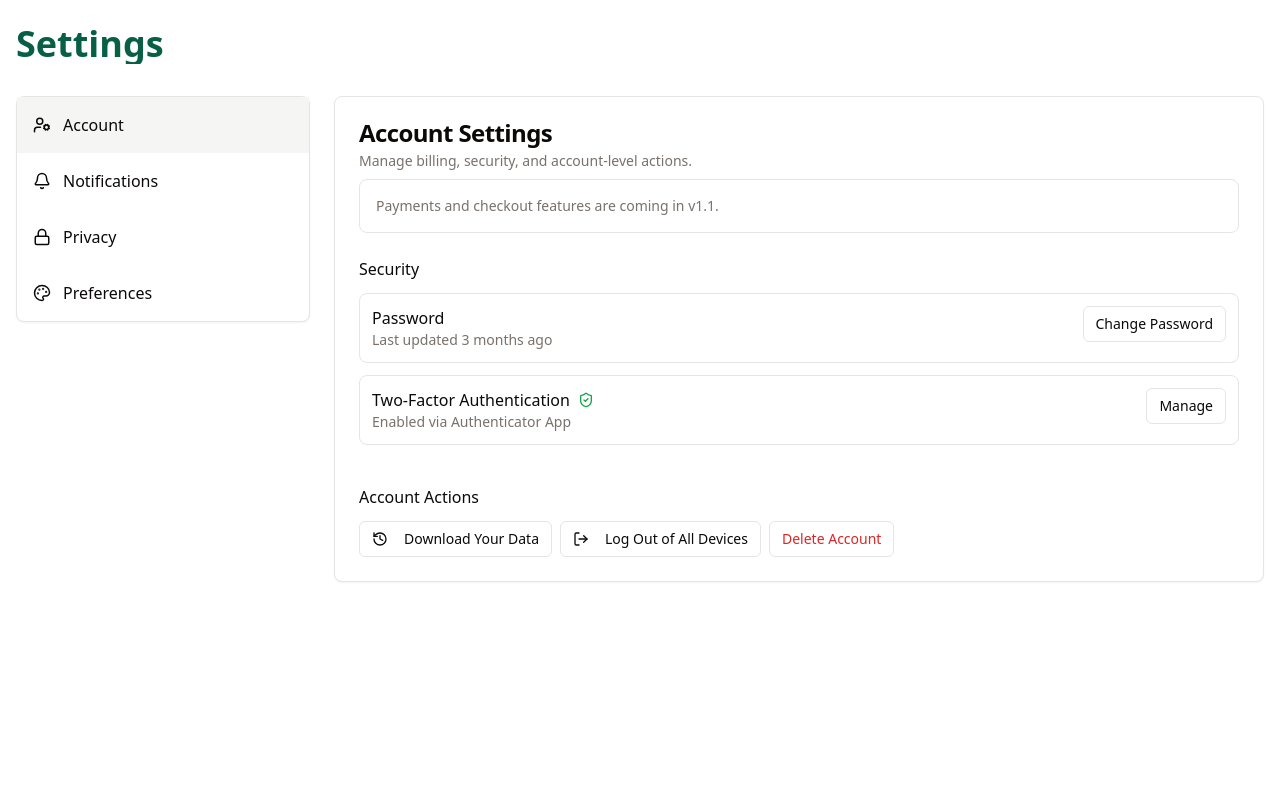
Test: Settings page (App Settings hub) › Change Password dialog › blocks submit on a weak new password without reauthenticating
The width and height of the screenshot is (1280, 800).
Click the button with test id "settings-tab-account".
click(93, 125)  # box [17, 97, 309, 153]
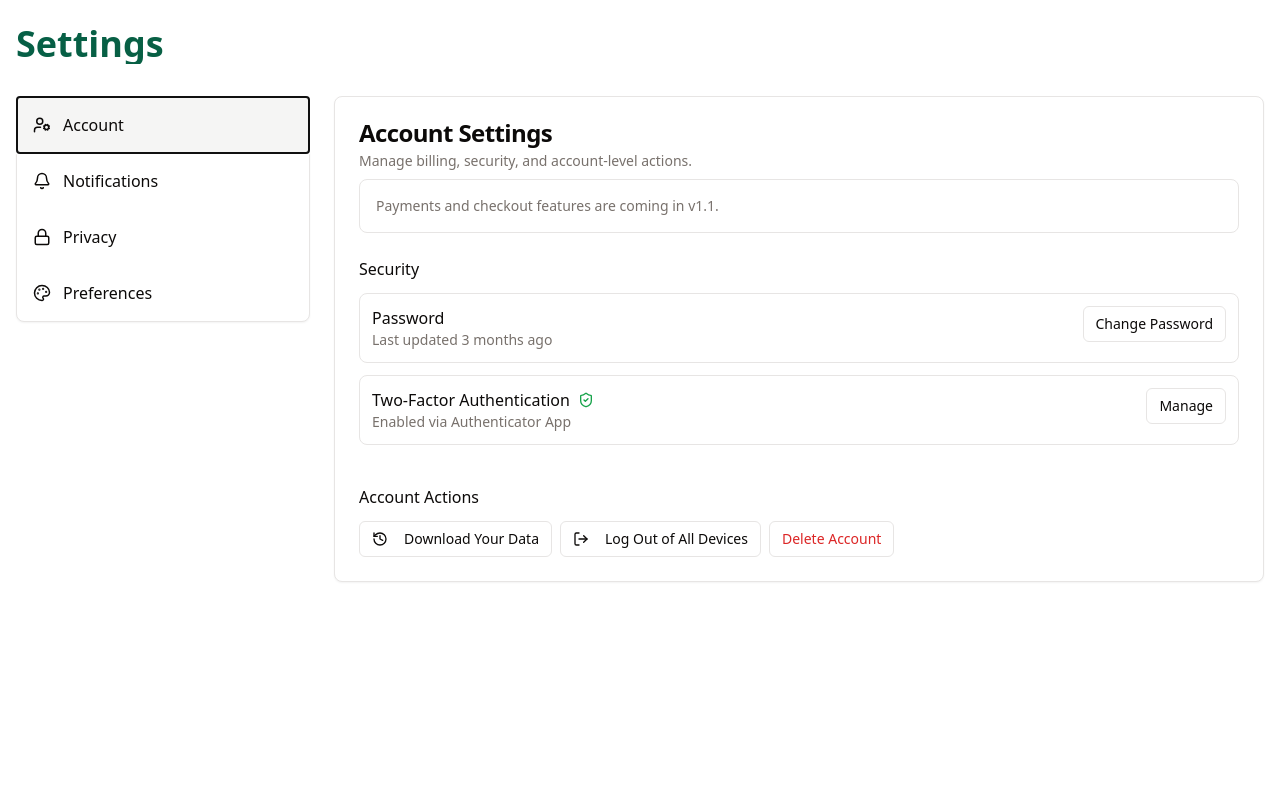
Click the button "Change Password".
click(1154, 324)  # box [1082, 306, 1226, 342]
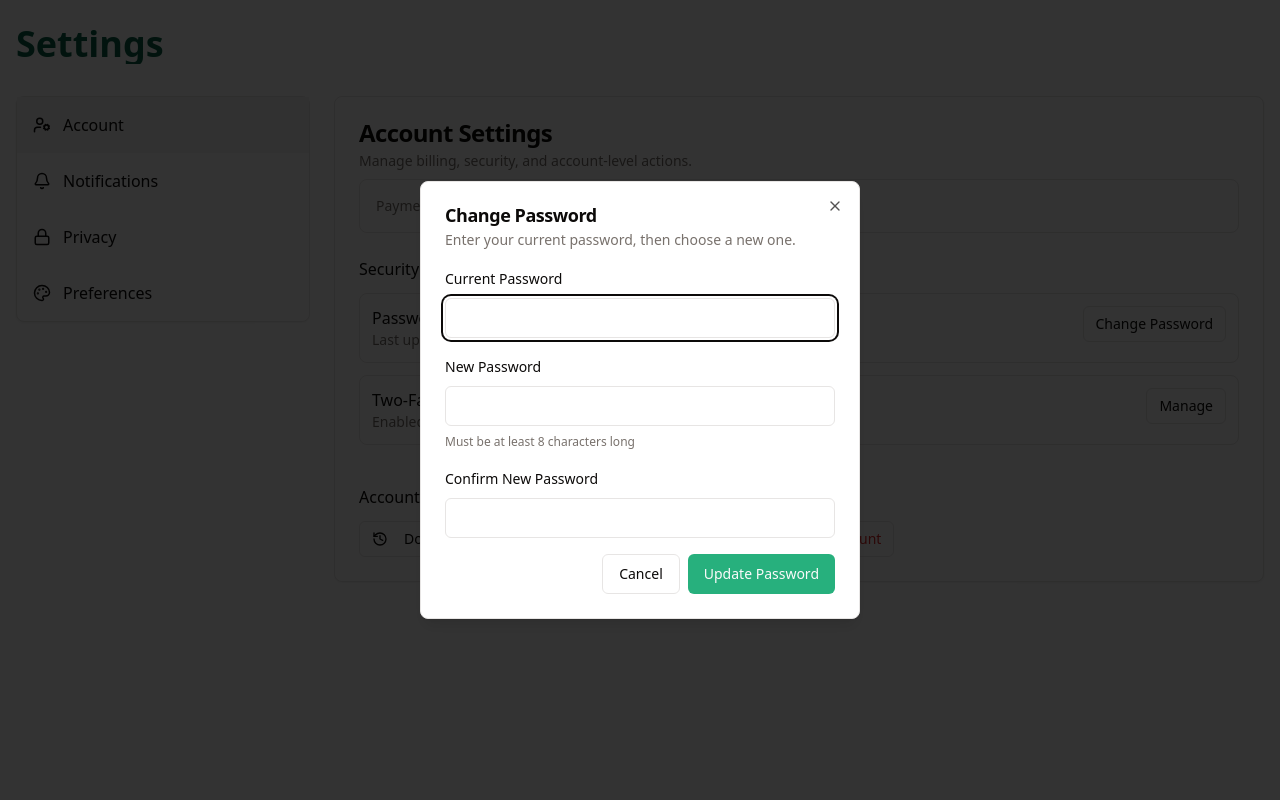
Type "currentpass" into the password field with test id "change-password-current-input".
click(640, 318); type("currentpass")  # box [445, 298, 835, 338]
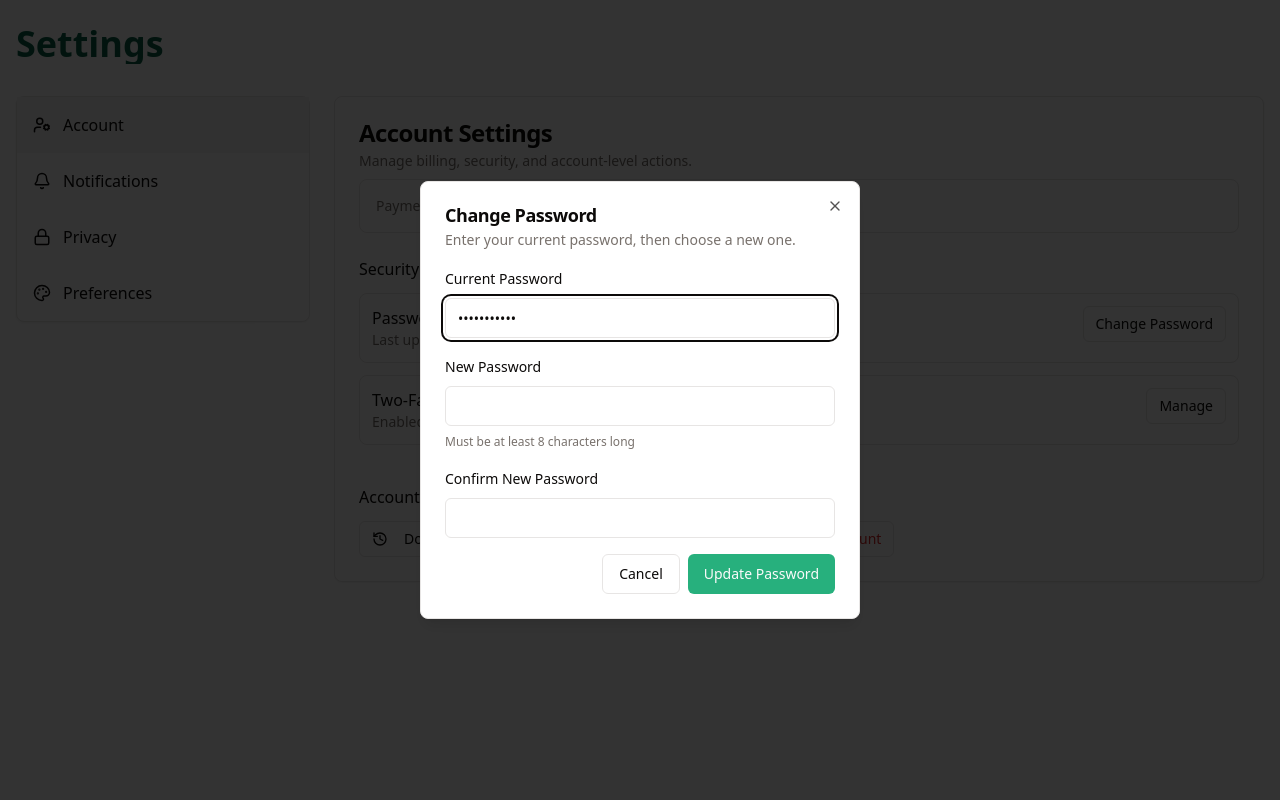
Type "weak" into the password field with test id "change-password-new-input".
click(640, 406); type("weak")  # box [445, 386, 835, 426]
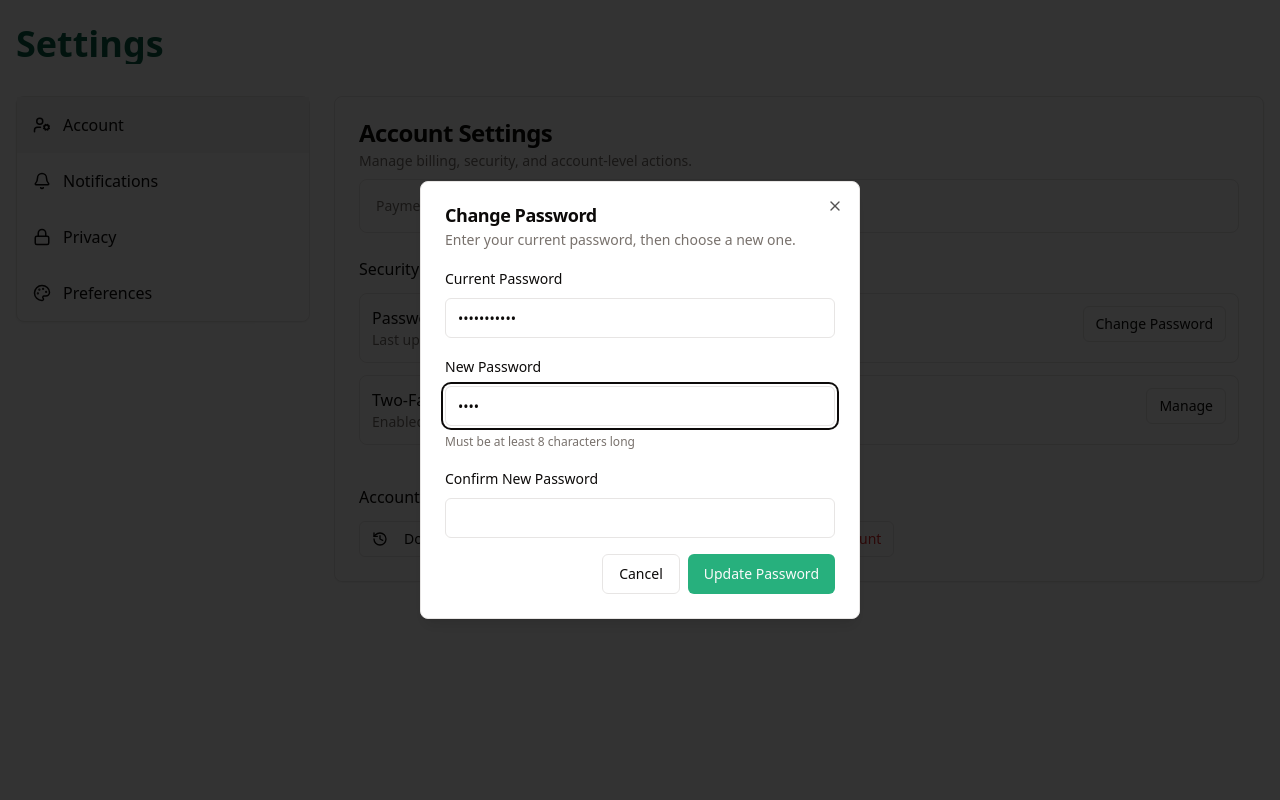
Type "weak" into the password field with test id "change-password-confirm-input".
click(640, 518); type("weak")  # box [445, 498, 835, 538]
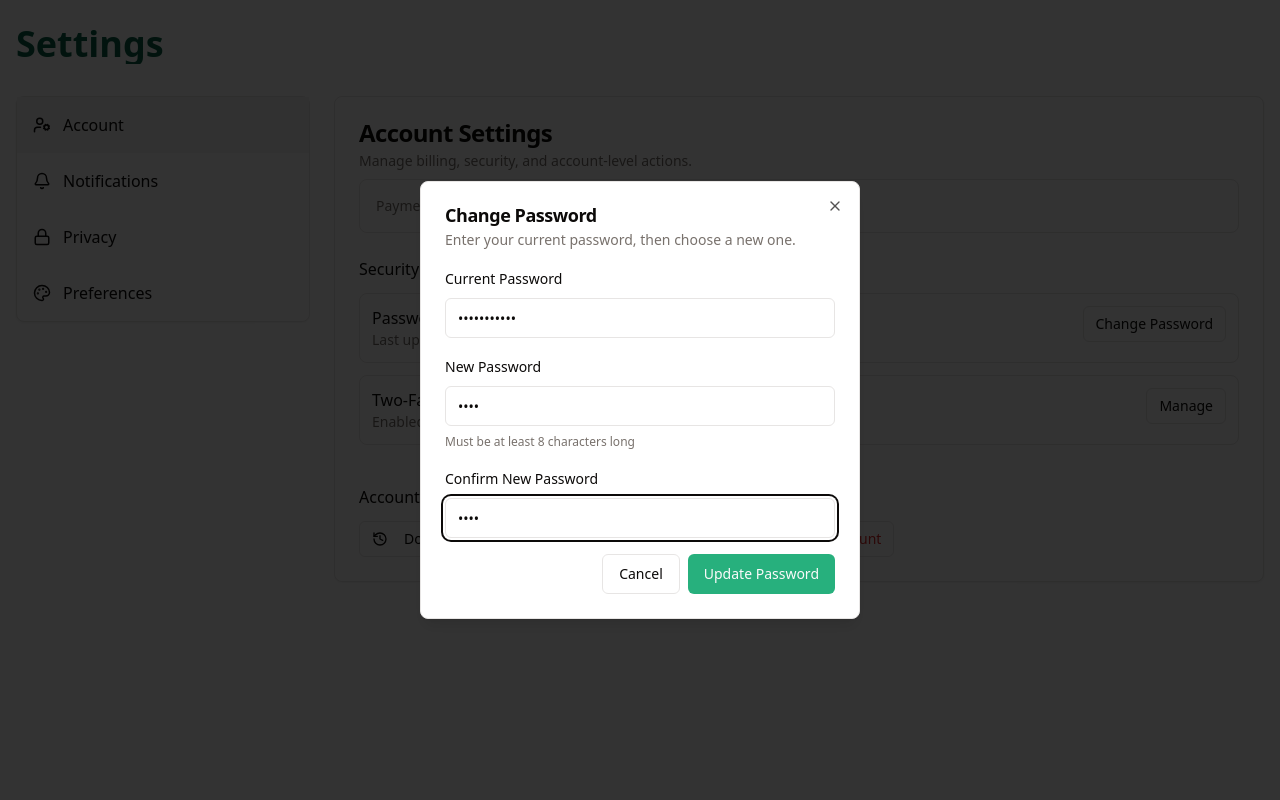
Click the button with test id "change-password-submit".
click(761, 574)  # box [688, 554, 835, 594]
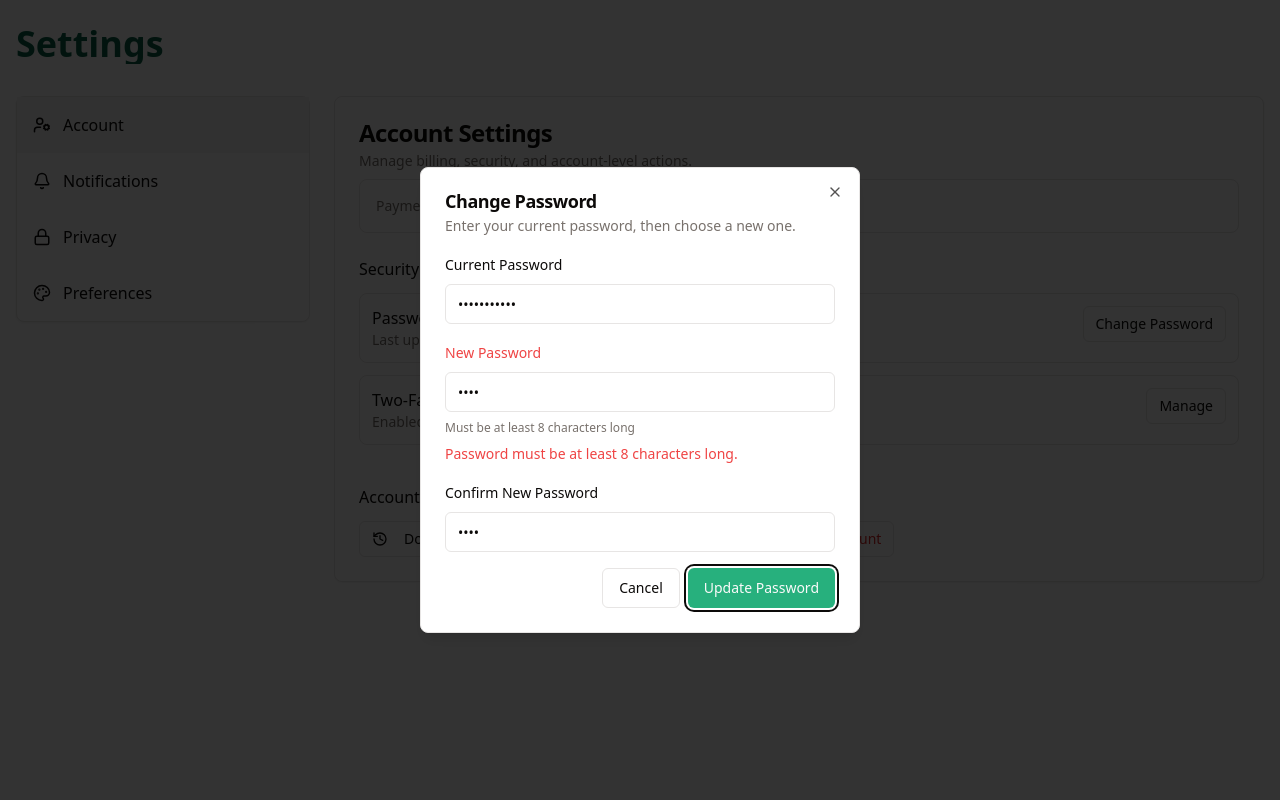
Expected: the text "Password must be at least 8 characters long." is shown, [445, 444, 738, 463]
